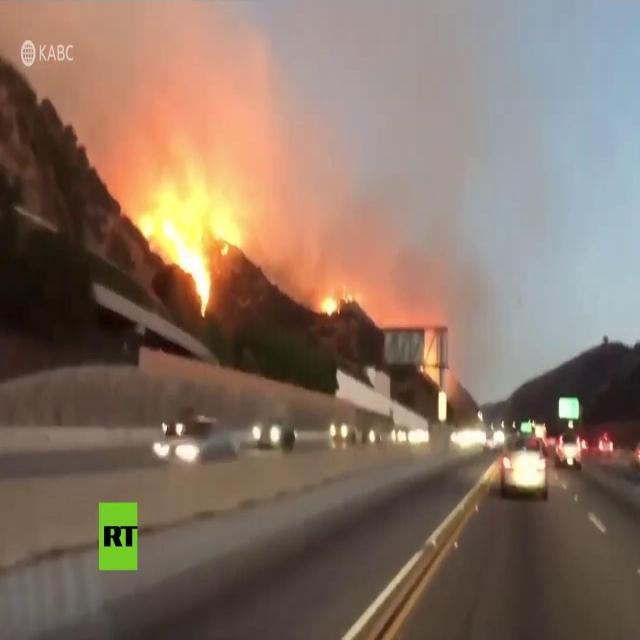Fire: (133, 176, 241, 324), (318, 287, 352, 314)
